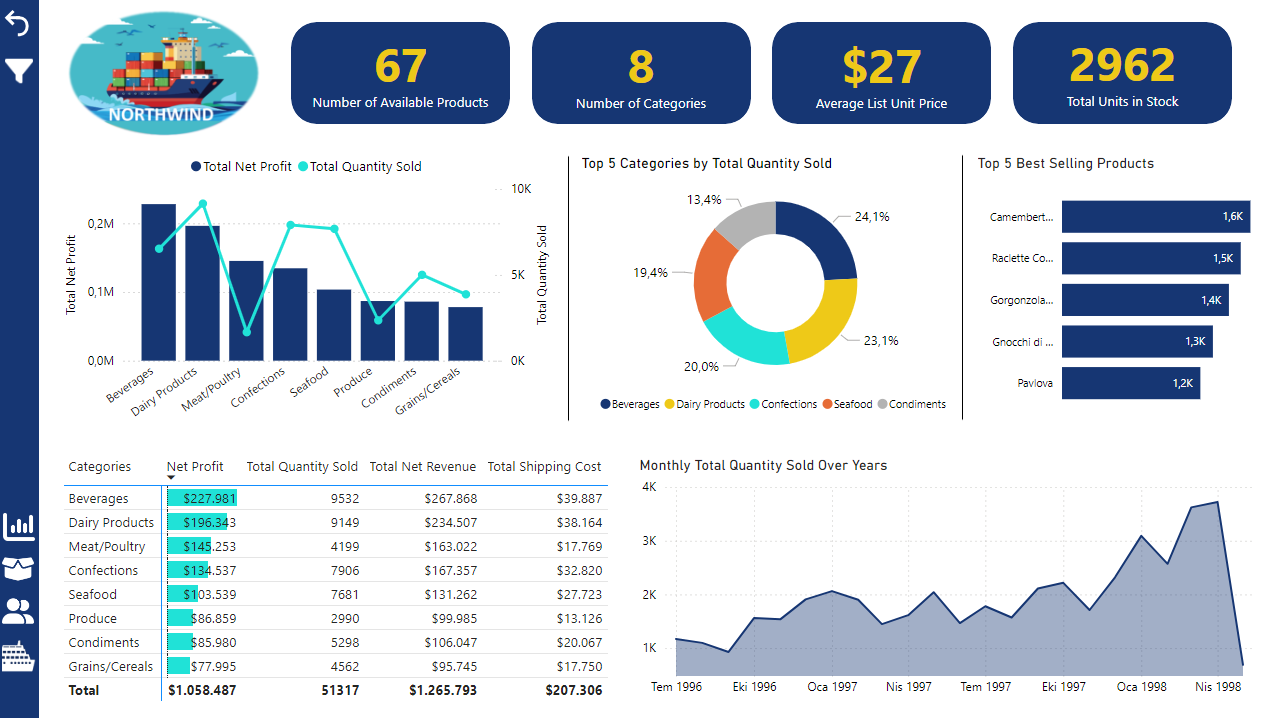

Layout of this report page (visuals, bound fields, positions):
{"tool":"powerbi","page":{"name":"Products","canvas":[1280,720],"ordinal":1},"visuals":[{"type":"shape","title":"Left Nav Background","box":[0,0,41,720],"z":0},{"type":"group","id":"g1","title":"KPI Cards","box":[292.7,23.7,941,102],"z":0,"group":"g3"},{"type":"shape","box":[292.7,23.7,219,102],"z":0,"group":"g1"},{"type":"card","fields":{"Values":["ölçüler.Total Products"]},"box":[295.7,23.7,213,98],"z":0,"group":"g2"},{"type":"actionButton","box":[0,593.1,41,40],"z":0,"group":"g4"},{"type":"group","id":"g2","title":"KPI Values","box":[295.7,23.7,935,99.3],"z":1000,"group":"g3"},{"type":"shape","box":[533.4,23.7,219,102],"z":1000,"group":"g1"},{"type":"card","fields":{"Values":["ölçüler.Number of Categories"]},"box":[536.7,25.7,212,97],"z":1000,"group":"g2"},{"type":"actionButton","box":[3,55,39,36],"z":1000},{"type":"actionButton","box":[0,551.1,41,40],"z":1000,"group":"g4"},{"type":"actionButton","box":[0.5,7,41,36],"z":2000},{"type":"shape","box":[774,23.7,219,102],"z":2000,"group":"g1"},{"type":"card","fields":{"Values":["ölçüler.Unit in Stock"]},"box":[1017.7,23.7,213,97],"z":2000,"group":"g2"},{"type":"actionButton","box":[0,635,42,46],"z":2000,"group":"g4"},{"type":"group","id":"g3","title":"KPIs","box":[292.7,23.7,941,102],"z":3000},{"type":"shape","box":[1014.7,23.7,219,102],"z":3000,"group":"g1"},{"type":"card","fields":{"Values":["ölçüler.Average Unit Price"]},"box":[777,26,213,97],"z":3000,"group":"g2"},{"type":"actionButton","box":[1,509.2,41,40],"z":3000,"group":"g4"},{"type":"image","box":[39,7,254,136],"z":4000},{"type":"lineStackedColumnComboChart","fields":{"Category":["category analysis.category_name"],"Y2":["ölçüler.Total Quantity Sold"],"Y":["category analysis.Total Net Profit"]},"box":[63,148,496,296],"z":5000},{"type":"donutChart","title":"Top 5 Categories by Total Quantity Sold","fields":{"Category":["category analysis.category_name"],"Y":["Sum(category analysis.total_quantity_sold)"]},"box":[579,157,397,267],"z":6000},{"type":"pivotTable","fields":{"Rows":["category analysis.category_name"],"Values":["Sum(category analysis.net_profit)","Sum(category analysis.total_quantity_sold)","Sum(category analysis.total_net_revenue)","Sum(category analysis.total_shipping_cost)"]},"box":[61,451,557,259],"z":7000},{"type":"group","id":"g4","title":"Group 1","box":[0,509.2,42,171.8],"z":8000},{"type":"image","box":[559,149,25,284],"z":10000},{"type":"image","box":[953,148,25,284],"z":11000},{"type":"areaChart","title":"Monthly Total Quantity Sold Over Years","fields":{"Category":["Calender.year_month"],"Y":["ölçüler.Total Quantity Sold"]},"box":[637,459,637,248],"z":12000},{"type":"clusteredBarChart","title":"Top 5 Best Selling Products","fields":{"Category":["products.product_name"],"Y":["ölçüler.Total Quantity Sold"]},"box":[975,157,305,267],"z":13000}]}

Visuals, with their boxes on the page's 1280x720 design canvas (x1, y1, x2, y2). These are canvas units, not pixel positions in the 1277x718 screenshot, which may show the page scaled, cropped or inside an application window:
"Left Nav Background" shape: detection(0, 0, 41, 720)
"KPI Cards" group: detection(293, 24, 1234, 126)
shape: detection(293, 24, 512, 126)
card - ölçüler.Total Products: detection(296, 24, 509, 122)
actionButton: detection(0, 593, 41, 633)
"KPI Values" group: detection(296, 24, 1231, 123)
shape: detection(533, 24, 752, 126)
card - ölçüler.Number of Categories: detection(537, 26, 749, 123)
actionButton: detection(3, 55, 42, 91)
actionButton: detection(0, 551, 41, 591)
actionButton: detection(0, 7, 42, 43)
shape: detection(774, 24, 993, 126)
card - ölçüler.Unit in Stock: detection(1018, 24, 1231, 121)
actionButton: detection(0, 635, 42, 681)
"KPIs" group: detection(293, 24, 1234, 126)
shape: detection(1015, 24, 1234, 126)
card - ölçüler.Average Unit Price: detection(777, 26, 990, 123)
actionButton: detection(1, 509, 42, 549)
image: detection(39, 7, 293, 143)
lineStackedColumnComboChart - category analysis.category_name x ölçüler.Total Quantity Sold: detection(63, 148, 559, 444)
"Top 5 Categories by Total Quantity Sold" donutChart: detection(579, 157, 976, 424)
pivotTable - category analysis.category_name x Sum(category analysis.net_profit): detection(61, 451, 618, 710)
"Group 1" group: detection(0, 509, 42, 681)
image: detection(559, 149, 584, 433)
image: detection(953, 148, 978, 432)
"Monthly Total Quantity Sold Over Years" areaChart: detection(637, 459, 1274, 707)
"Top 5 Best Selling Products" clusteredBarChart: detection(975, 157, 1280, 424)
